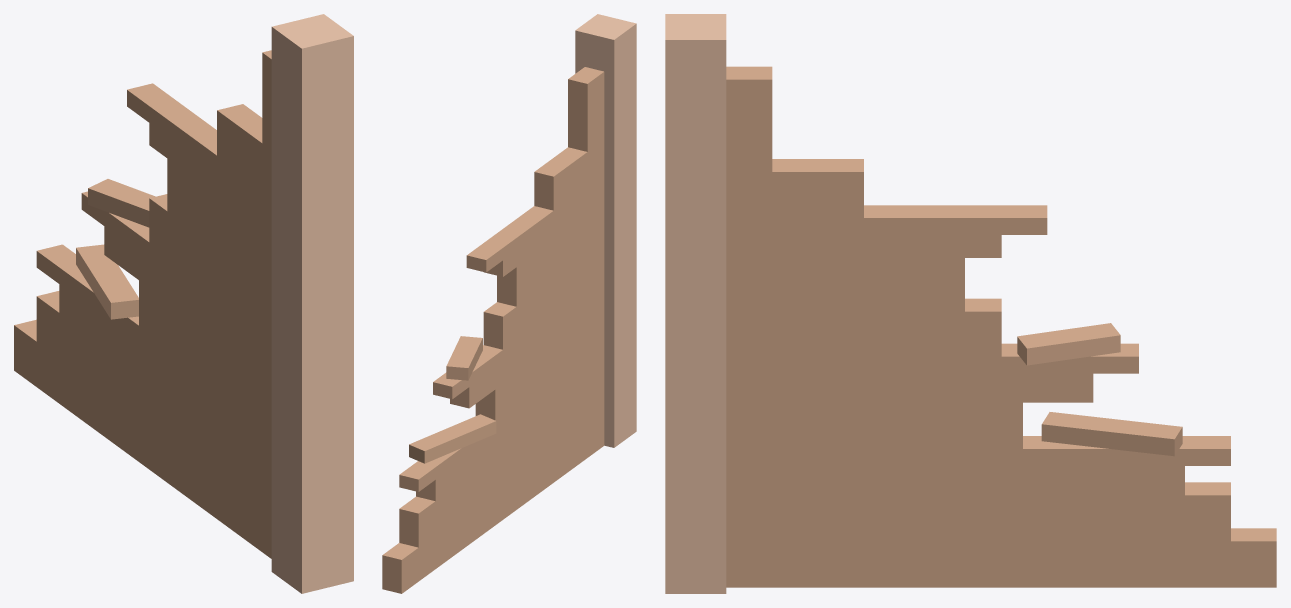
3 renders of one model, left to right at view 1: azimuth 30°, elevation 25°; view 2: azimuth 150°, elevation 25°; view 3: azimuth 270°, elevation 25°, orthographic. The views are drawn at different scales.
Visible parts, largest first — view 1: wallWoodBroken; view 2: wallWoodBroken; view 3: wallWoodBroken.
Boxes of the visible parts, left/top/right/bottom form: wallWoodBroken: left=14, top=14, right=353, bottom=593; wallWoodBroken: left=382, top=14, right=636, bottom=593; wallWoodBroken: left=665, top=14, right=1276, bottom=593.
Bounding box in the file's own units: 0.1129 × 1 × 1.
